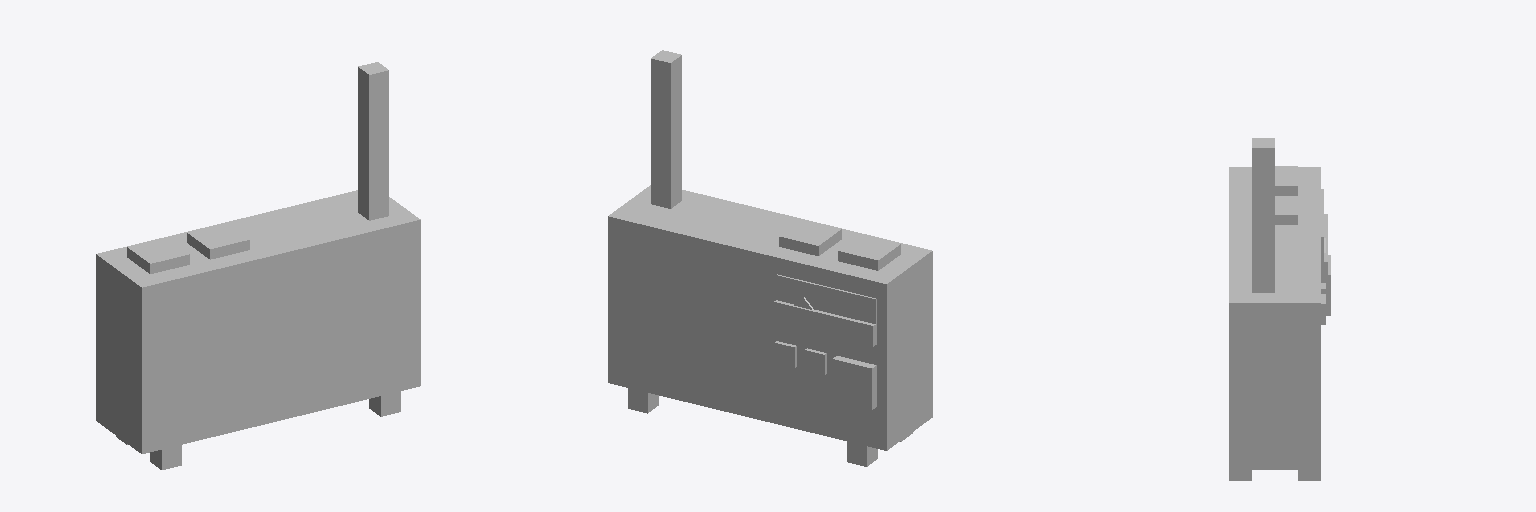
Rendered from radio.obj.
The picture shows the model from 3 angles: view 1: azimuth 30°, elevation 25°; view 2: azimuth 150°, elevation 25°; view 3: azimuth 270°, elevation 25°; orthographic projection.
Parts seen in each view (by area): view 1: cube; view 2: cube; view 3: cube.
Boxes of the visible parts, x1,y1,x2,y2 form: cube: [96, 62, 420, 469]; cube: [608, 50, 932, 466]; cube: [1229, 138, 1330, 480].
Bounding box in the file's own units: 0.875 × 1 × 0.275.